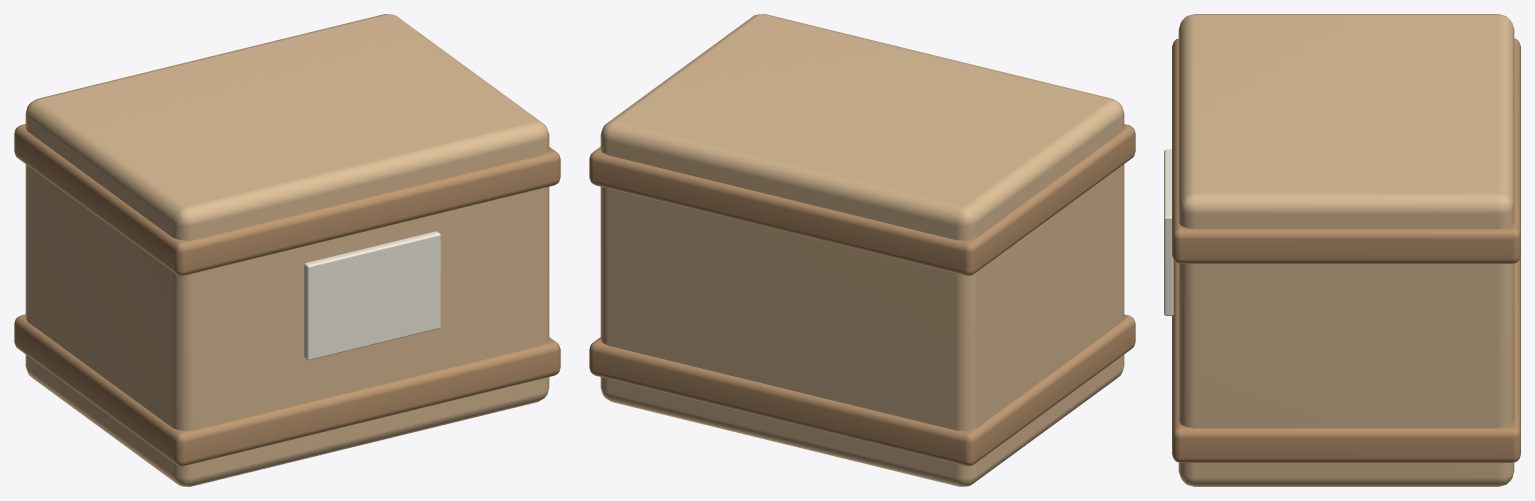
Rendered from alpha_crate.glb.
The picture shows the model from 3 angles, left to right: view 1: azimuth 30°, elevation 25°; view 2: azimuth 150°, elevation 25°; view 3: azimuth 270°, elevation 25°; orthographic projection. The views are drawn at different scales.
Parts seen in each view (by area): view 1: Alpha_lightwood, Alpha_oak, Alpha_paper; view 2: Alpha_lightwood, Alpha_oak; view 3: Alpha_lightwood, Alpha_oak, Alpha_paper.
Boxes of the visible parts, x1,y1,x2,y2 form: Alpha_lightwood: (25, 14, 549, 486); Alpha_oak: (14, 124, 560, 466); Alpha_paper: (304, 231, 440, 360); Alpha_lightwood: (600, 14, 1124, 486); Alpha_oak: (589, 124, 1135, 466); Alpha_lightwood: (1178, 14, 1514, 486); Alpha_oak: (1172, 38, 1520, 462); Alpha_paper: (1164, 149, 1173, 315).
Bounding box in the file's own units: 0.72 × 0.5 × 0.5525.
